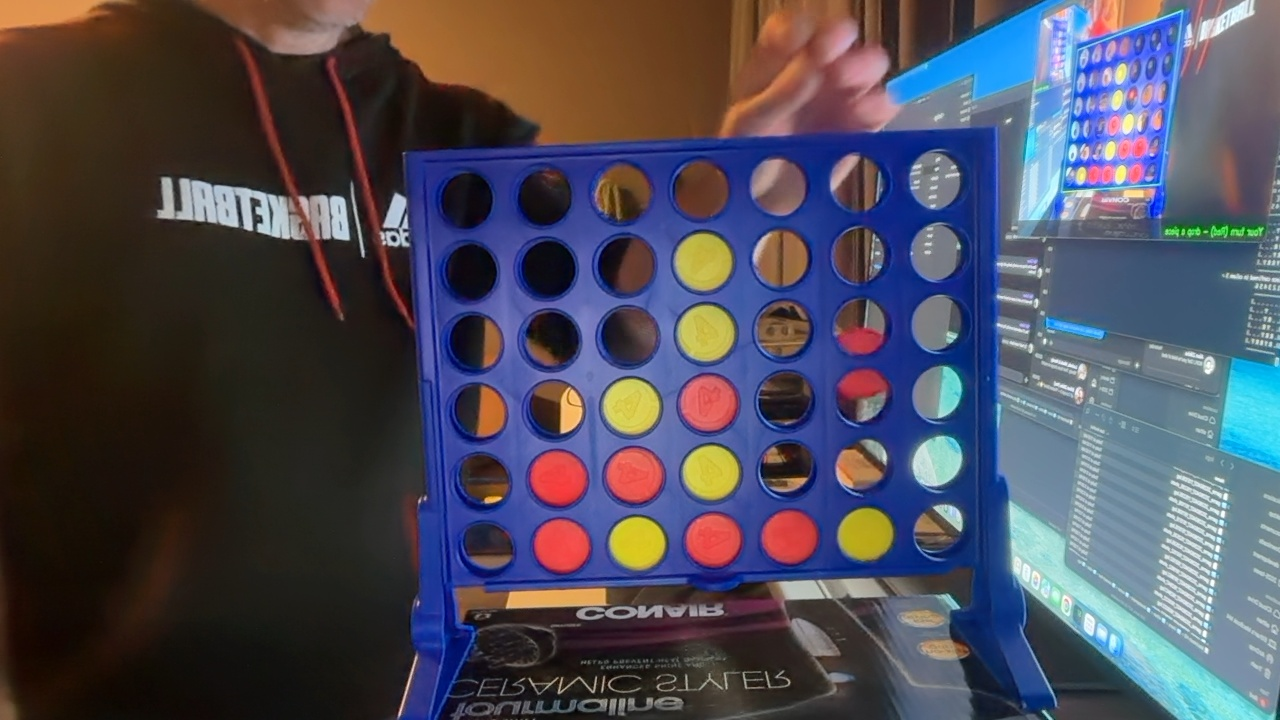red piece: (678, 374, 739, 433), (605, 447, 664, 504), (529, 450, 587, 507), (761, 509, 818, 565), (533, 519, 590, 574), (685, 513, 742, 568)
yellow piece: (673, 231, 733, 291), (676, 304, 736, 362), (601, 378, 661, 436), (681, 444, 741, 501), (608, 516, 666, 571), (837, 508, 894, 562)
